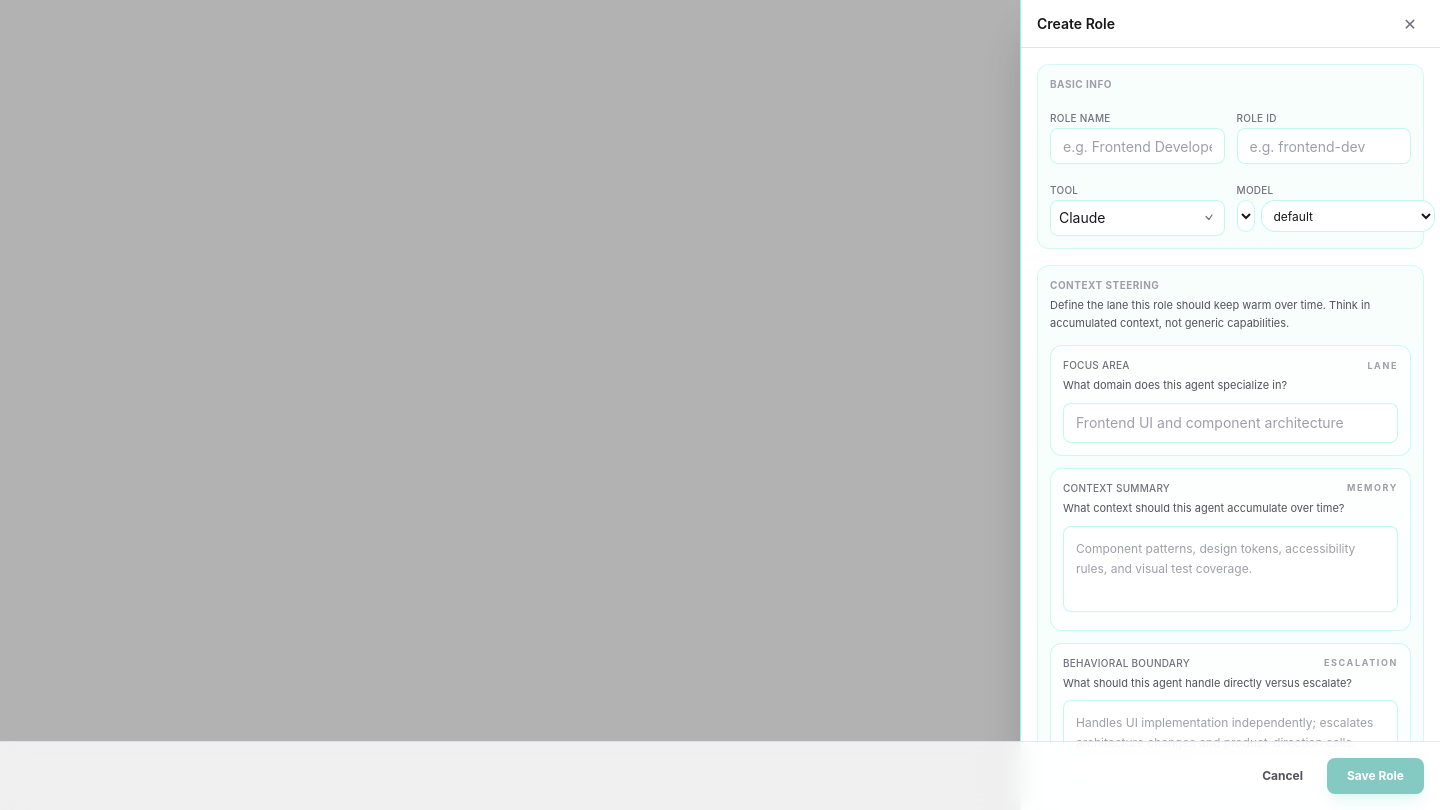
it: RoleEditor › generates role id from name
The width and height of the screenshot is (1440, 810).
In the field with test id "role-editor-name-input": (1137, 146) [1050,128,1224,164], type "Frontend Developer"
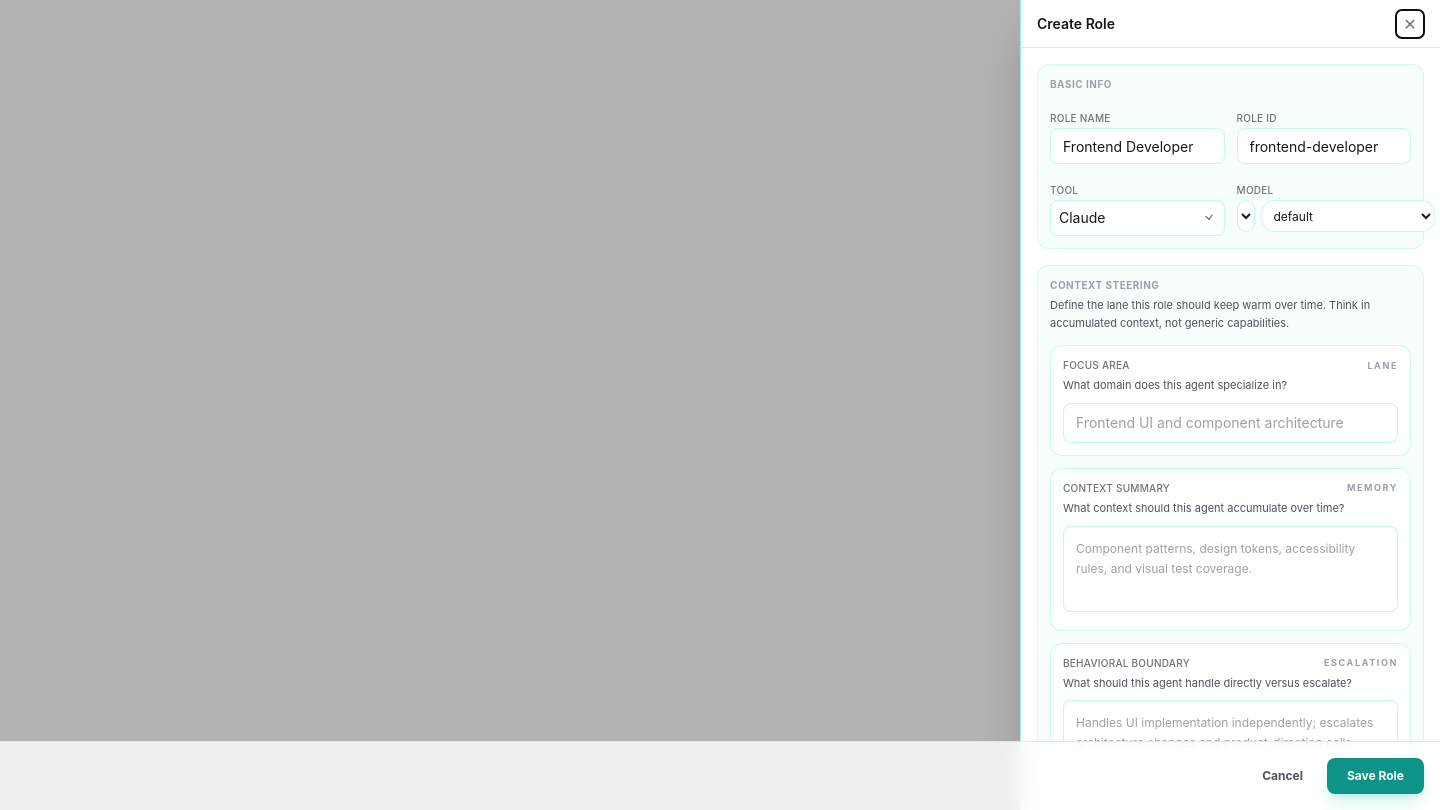
Expected: the field with test id "role-editor-id-input" holds "frontend-developer", [1236,128,1411,164]
